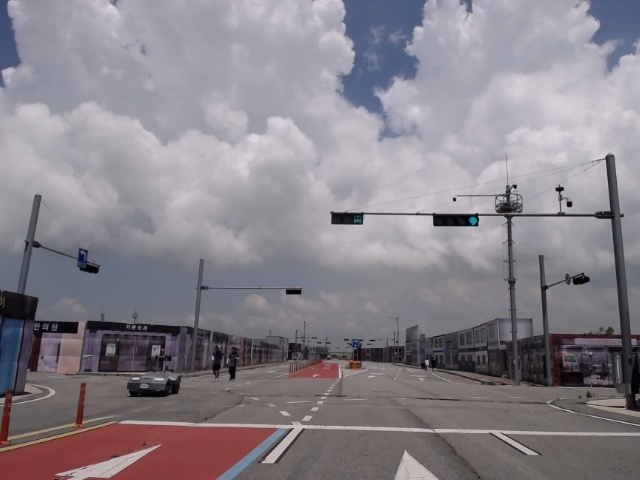straight_green_4: (432, 213, 478, 226)
